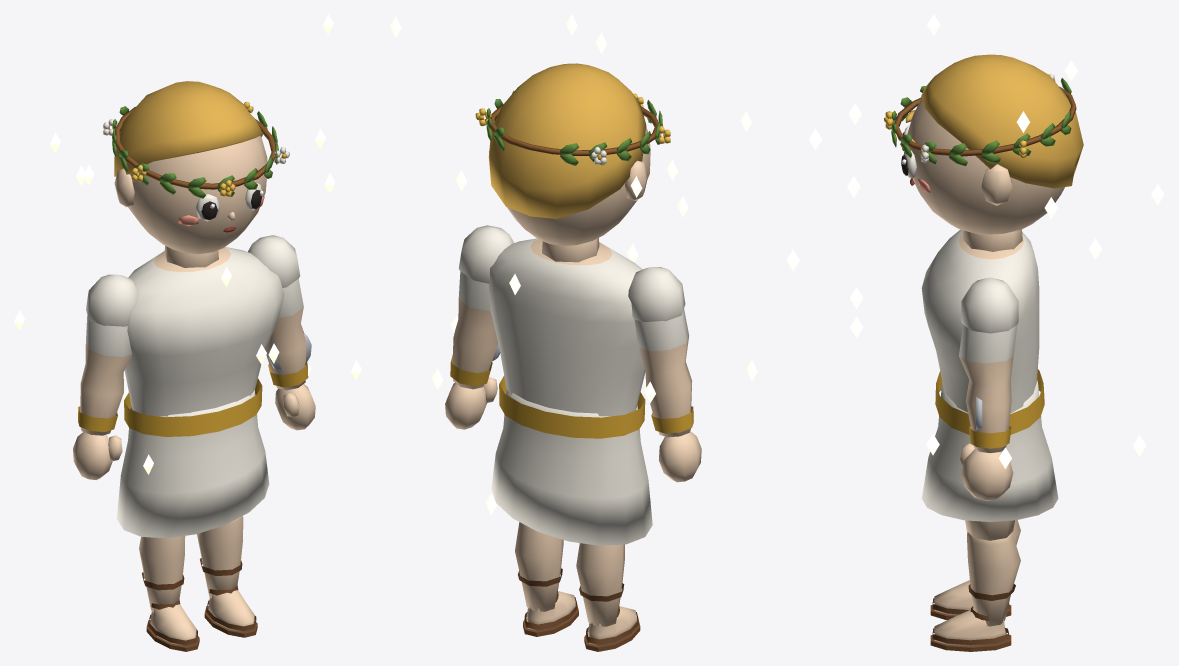
File: narziss.glb
3 renders of one model, left to right at view 1: azimuth 30°, elevation 25°; view 2: azimuth 150°, elevation 25°; view 3: azimuth 270°, elevation 25°, orthographic. The views are drawn at different scales.
Visible parts, largest first — view 1: rumpf, huefte, kopf, armL, haare, armR, knieL, knieR, kopfschmuck, vfx_glitzer_0, vfx_glitzer_1, augeL; view 2: rumpf, haare, huefte, armL, armR, kopf, knieL, knieR, kopfschmuck, vfx_glitzer_1, vfx_glitzer_2, vfx_glitzer_0; view 3: haare, rumpf, armR, kopf, huefte, knieR, kopfschmuck, knieL, vfx_glitzer_0, vfx_glitzer_1, beinR, vfx_glitzer_2.
Boxes of the visible parts, left/top/right/bottom form: rumpf: left=124, top=247, right=284, bottom=436; huefte: left=116, top=390, right=269, bottom=538; kopf: left=114, top=135, right=267, bottom=267; armL: left=73, top=274, right=138, bottom=479; haare: left=114, top=81, right=262, bottom=176; armR: left=248, top=235, right=315, bottom=430; knieL: left=139, top=536, right=199, bottom=651; knieR: left=197, top=516, right=257, bottom=637; kopfschmuck: left=103, top=101, right=289, bottom=198; vfx_glitzer_0: left=76, top=128, right=361, bottom=380; vfx_glitzer_1: left=50, top=14, right=333, bottom=474; augeL: left=195, top=194, right=220, bottom=221; rumpf: left=488, top=238, right=645, bottom=438; haare: left=488, top=63, right=646, bottom=218; huefte: left=491, top=389, right=652, bottom=545; armL: left=628, top=267, right=701, bottom=482; armR: left=445, top=225, right=513, bottom=429; kopf: left=489, top=126, right=650, bottom=262; knieL: left=576, top=543, right=640, bottom=651; knieR: left=515, top=522, right=578, bottom=636; kopfschmuck: left=475, top=90, right=670, bottom=165; vfx_glitzer_1: left=390, top=16, right=757, bottom=381; vfx_glitzer_2: left=432, top=196, right=688, bottom=514; vfx_glitzer_0: left=450, top=14, right=751, bottom=332; haare: left=921, top=54, right=1083, bottom=188; rumpf: left=921, top=229, right=1044, bottom=434; armR: left=959, top=277, right=1018, bottom=500; kopf: left=907, top=99, right=1064, bottom=251; huefte: left=921, top=380, right=1058, bottom=521; knieR: left=930, top=532, right=1020, bottom=651; kopfschmuck: left=884, top=73, right=1076, bottom=166; knieL: left=930, top=520, right=1020, bottom=620; vfx_glitzer_0: left=808, top=14, right=940, bottom=455; vfx_glitzer_1: left=850, top=60, right=1164, bottom=338; beinR: left=965, top=520, right=1014, bottom=540; vfx_glitzer_2: left=786, top=238, right=1145, bottom=468.
Size of the model in its own units: 1.35 by 2.4 by 1.38.
